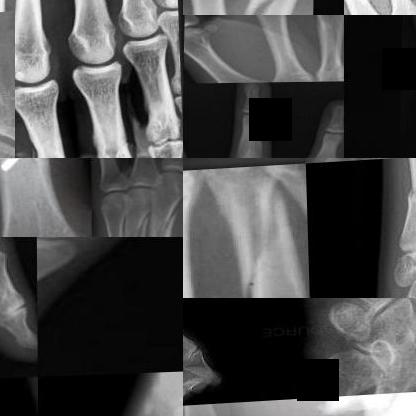fracture: (220, 186, 308, 297), (301, 392, 415, 415), (232, 0, 317, 15), (311, 18, 343, 53), (400, 158, 415, 228), (147, 214, 182, 237), (118, 216, 151, 236), (344, 0, 386, 14)
